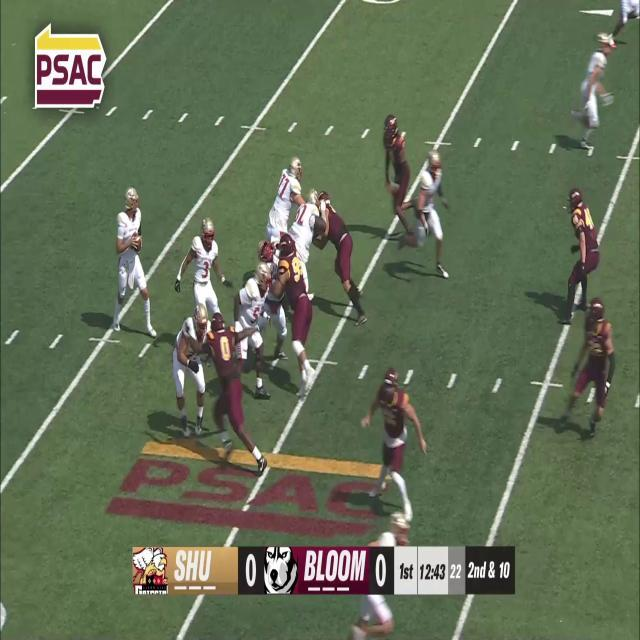football: (132, 232, 142, 254)
